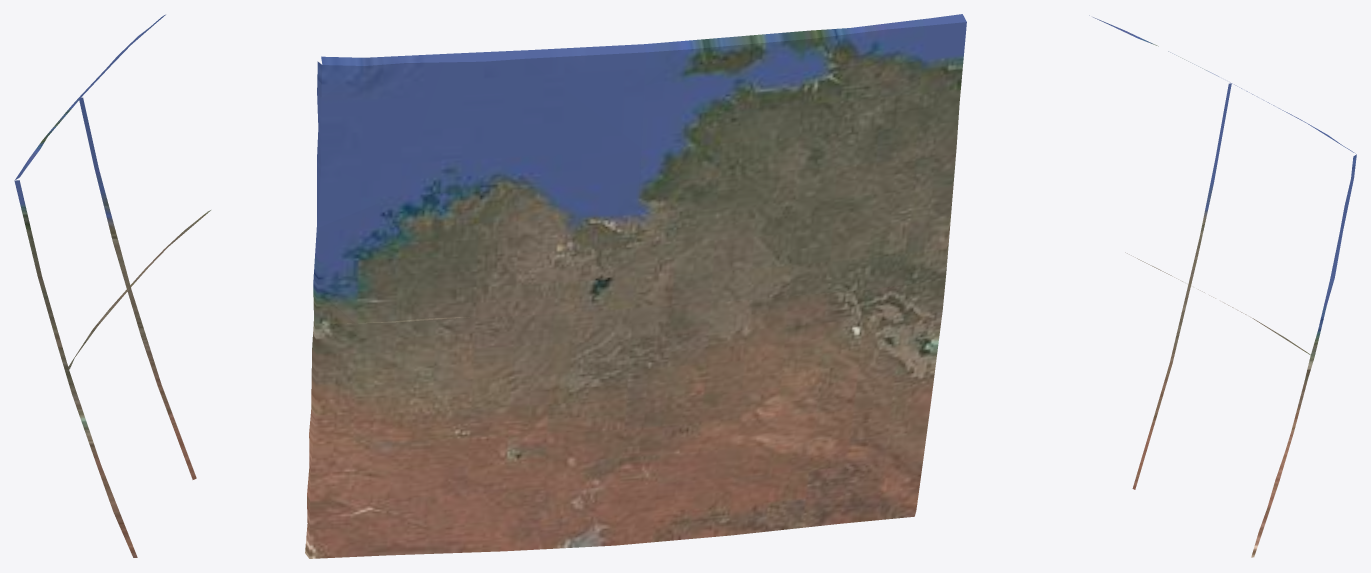
3 renders of one model, left to right at view 1: azimuth 30°, elevation 25°; view 2: azimuth 150°, elevation 25°; view 3: azimuth 270°, elevation 25°, orthographic. The views are drawn at different scales.
Size of the model in its own units: 1171135 by 1209209 by 1048820.
1 material, 1 textured.
